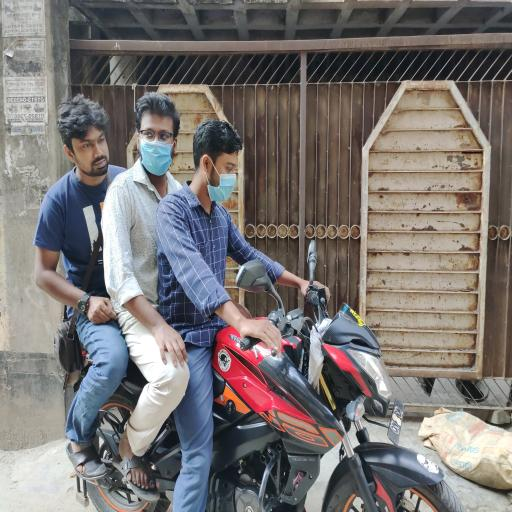overloading: (63, 241, 465, 510)
